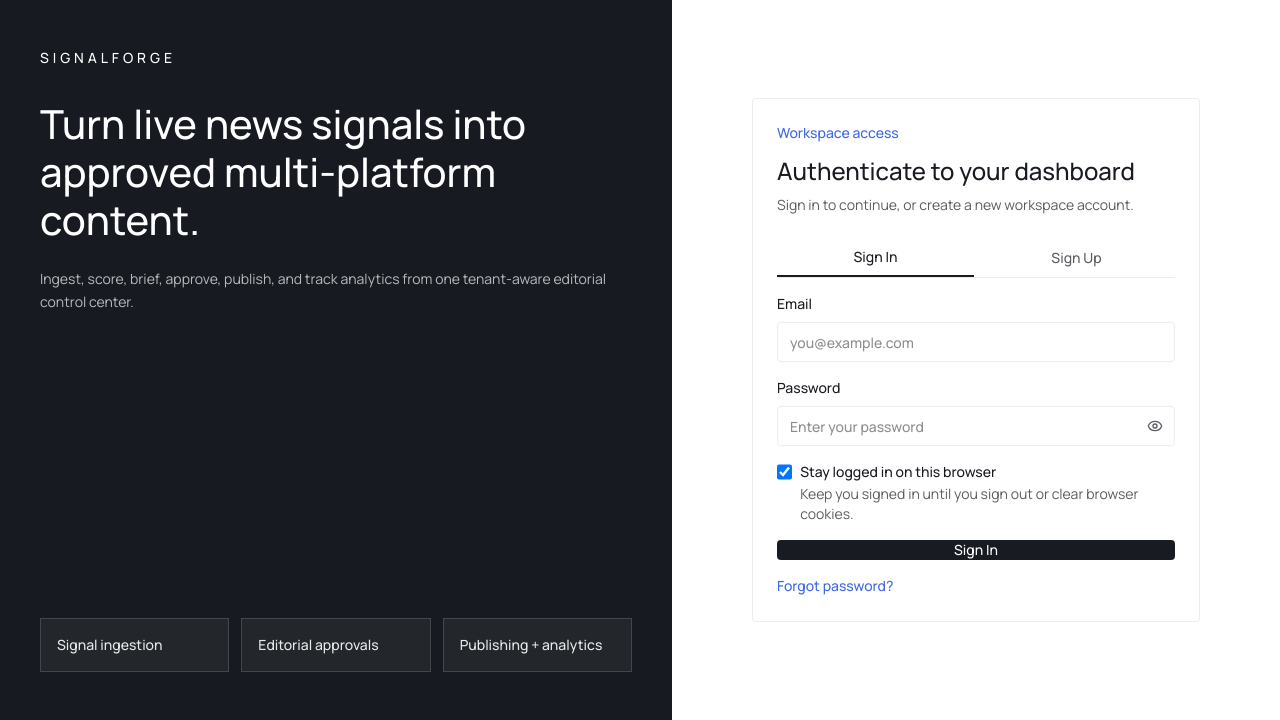
it: AuthHomePage › shows a generic sign-up verification message
Click the tab "Sign Up" at {"x": 1076, "y": 258}, box [978,240,1175,278]
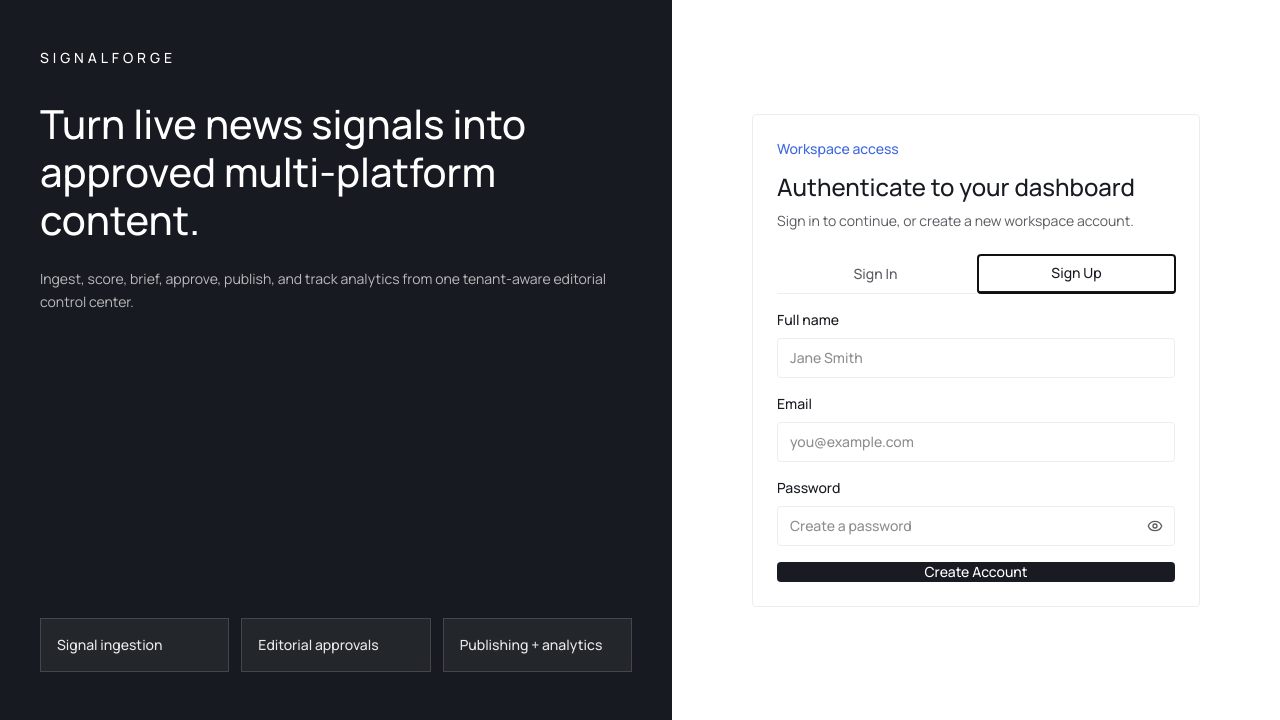
Type "demo@example.com" into the field labelled "Email" at {"x": 976, "y": 442}, box [777,422,1175,462]
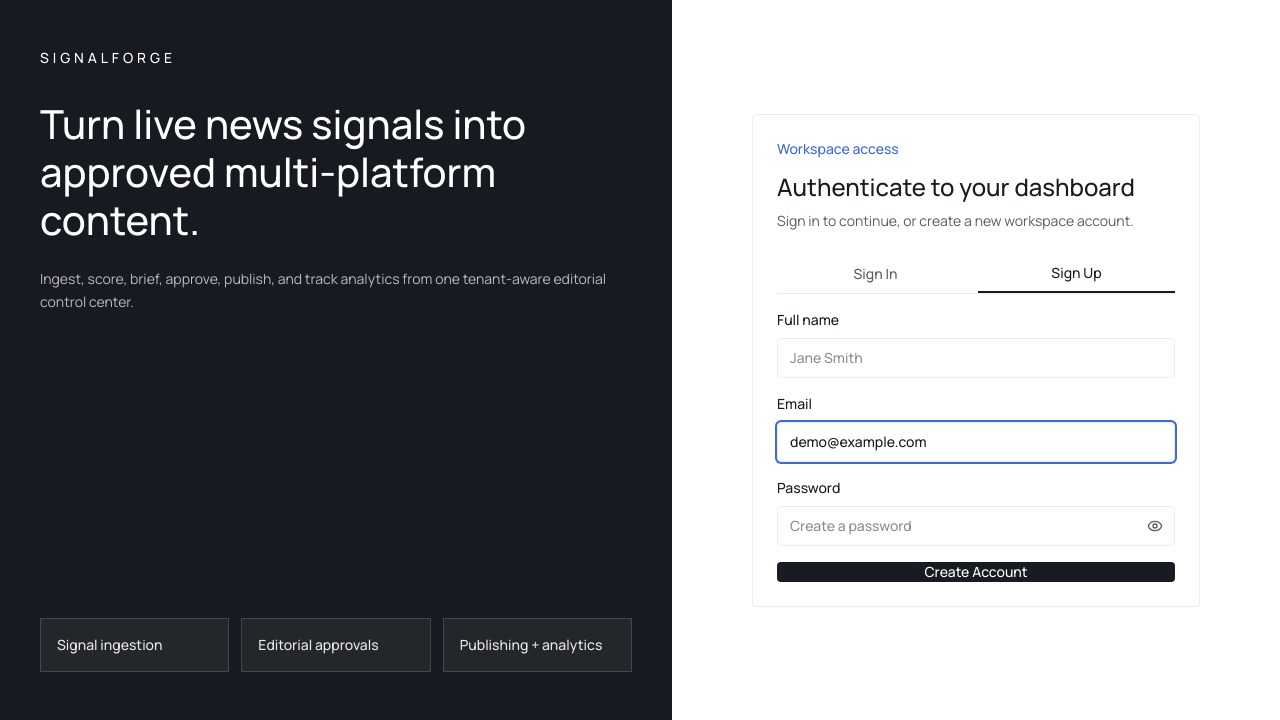
Type "password1234" into the password field labelled "Password" at {"x": 976, "y": 526}, box [777,506,1175,546]
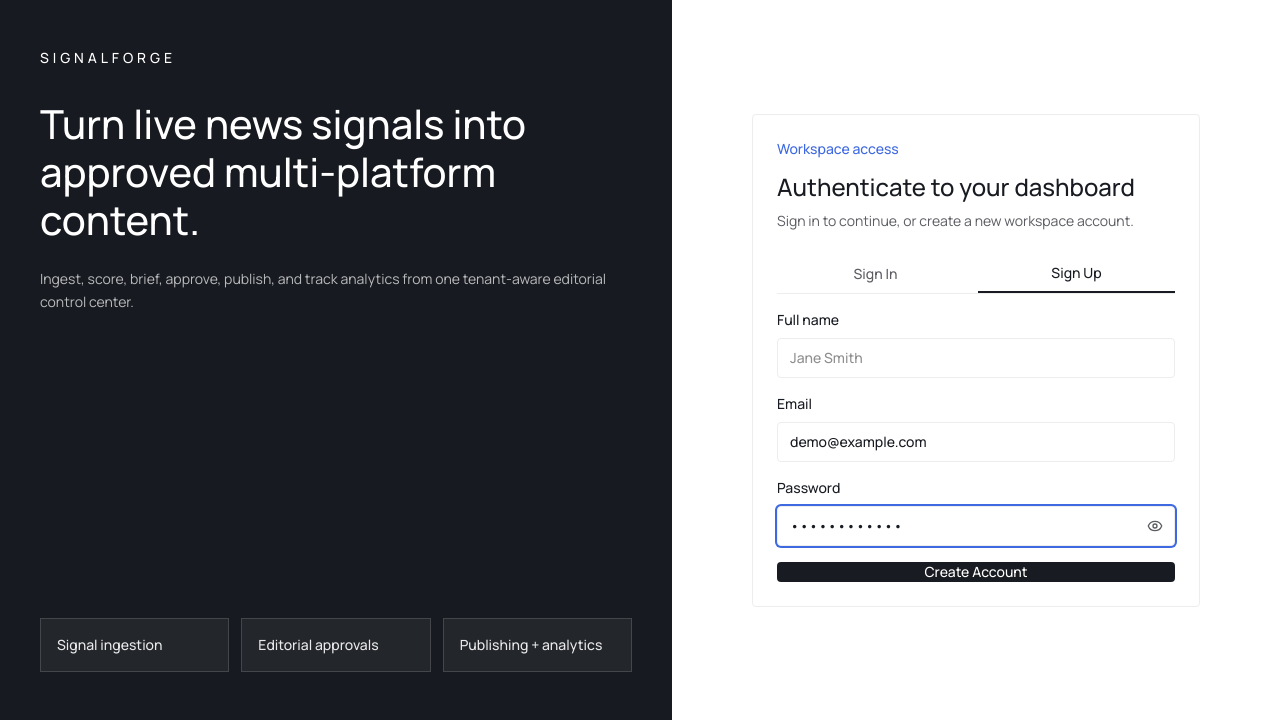
Click the button "Create Account" at {"x": 976, "y": 572}, box [777,562,1175,582]
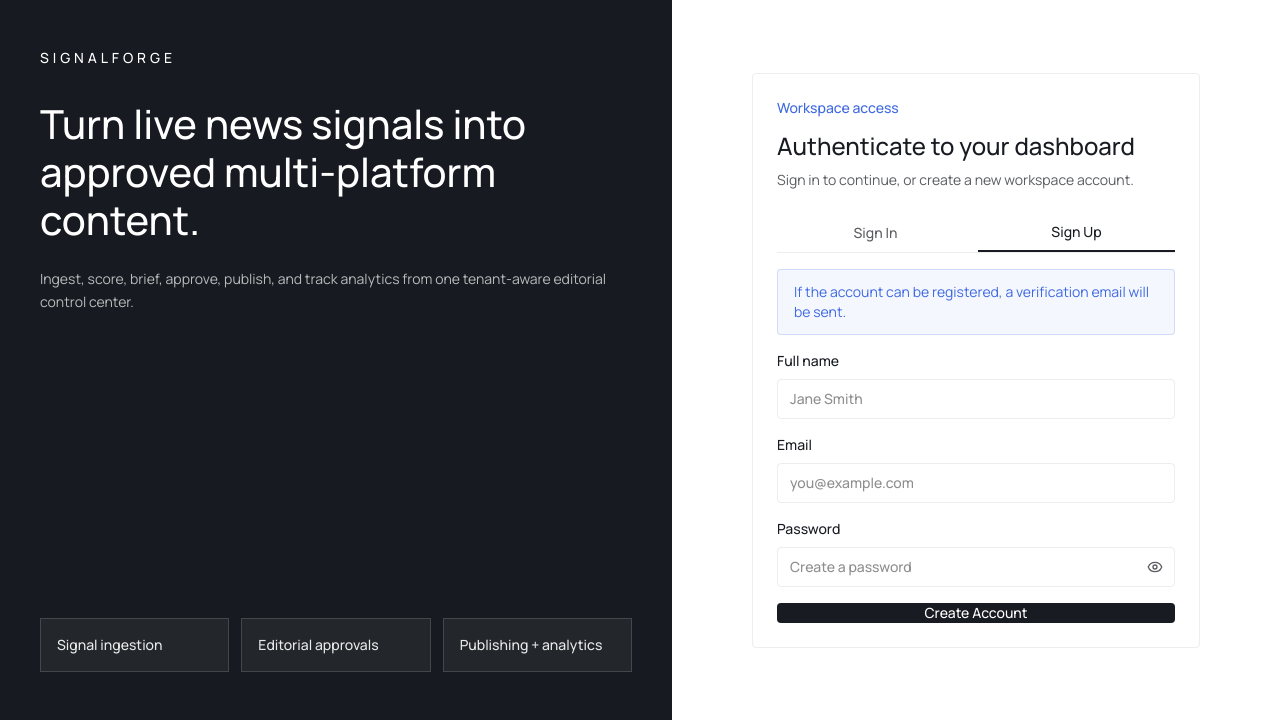
Check: the text "If the account can be registered, a verification email will be sent." is shown, box [777,268,1175,334]
